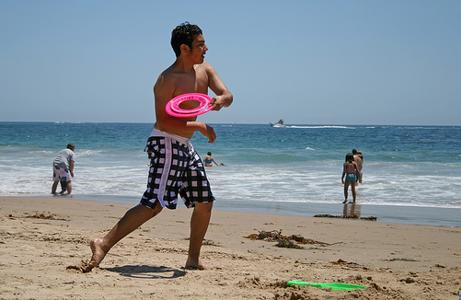person: (86, 22, 237, 272)
